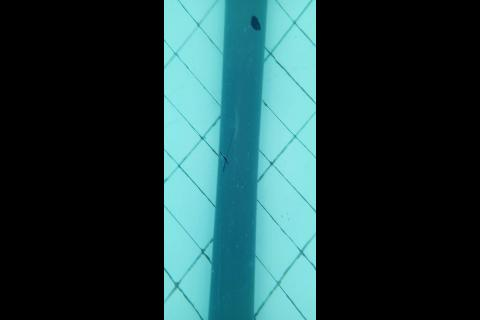kebocoran: (249, 11, 261, 32)
keretakan: (219, 135, 230, 173)
